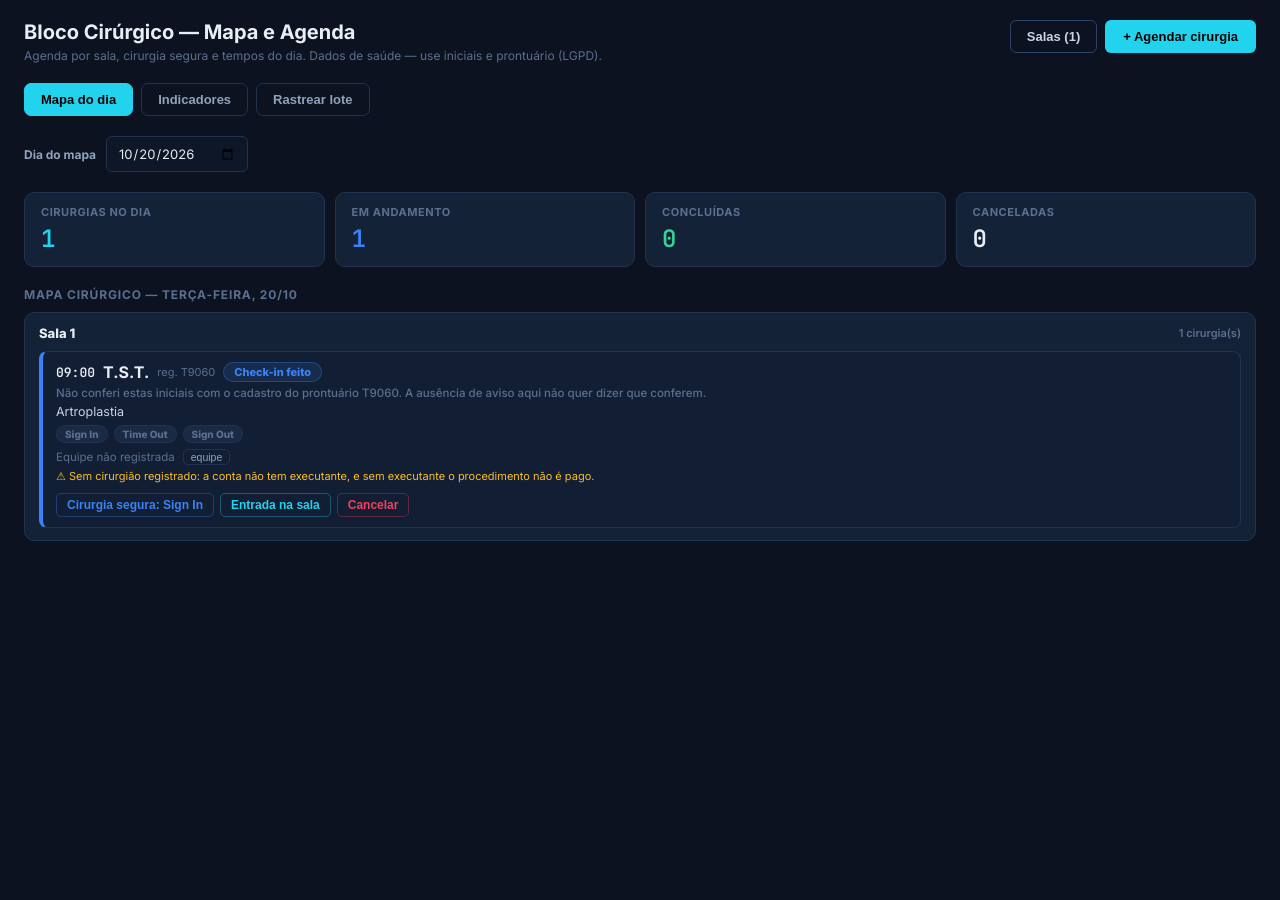
Scenario: 🔴 o Sign In não confere identidade contra o rótulo de outra pessoa › sem conseguir ler o cadastro, o modal diz que a identidade NÃO foi conferida
The image size is (1280, 900).
Click the button "Cirurgia segura: Sign In": (135, 505) x1=56 y1=493 x2=214 y2=517
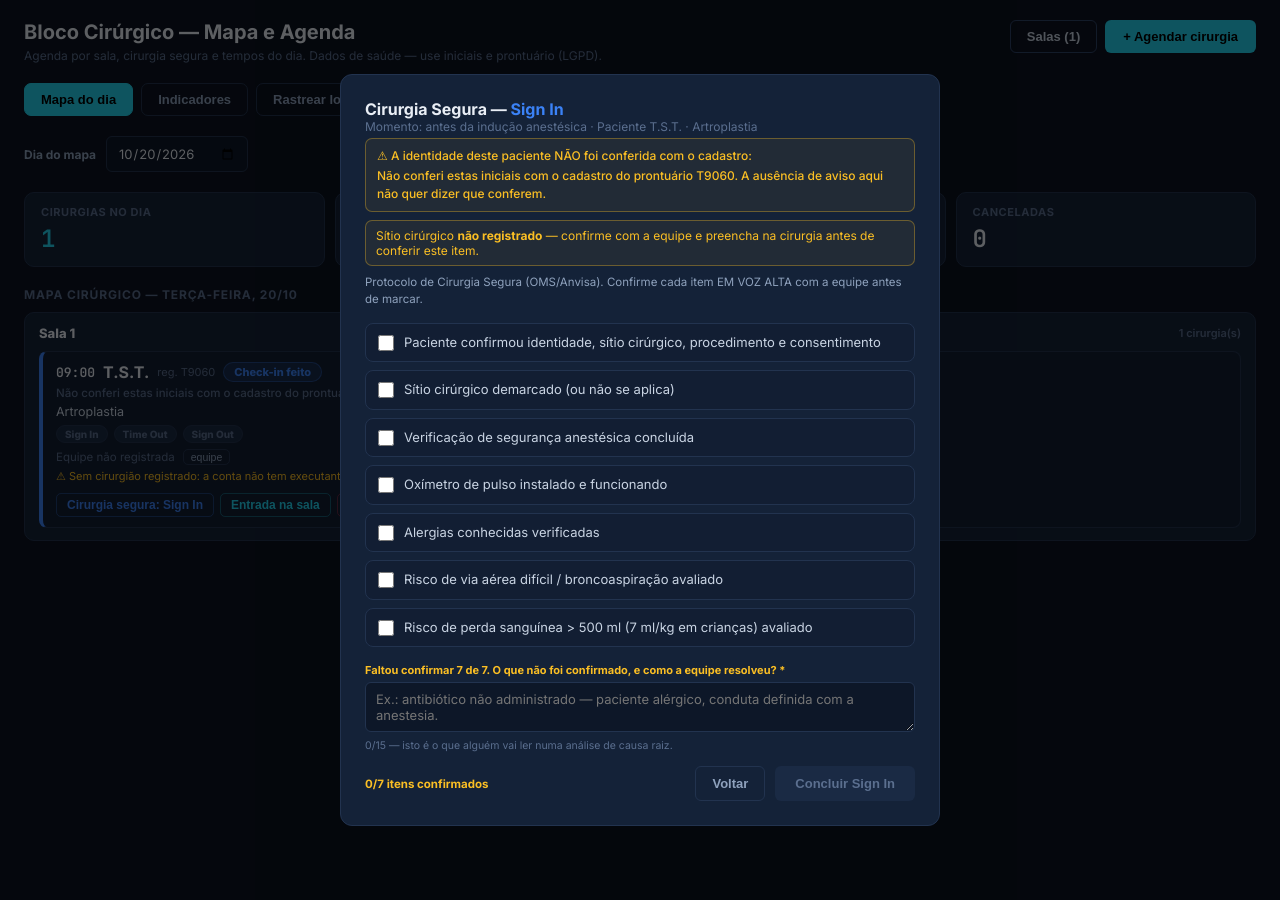
Check: the button "Voltar" is shown, box x1=695 y1=766 x2=765 y2=801
Check: the text "A identidade deste paciente NÃO foi conferida com o cadastro" is shown, box x1=377 y1=148 x2=752 y2=163
